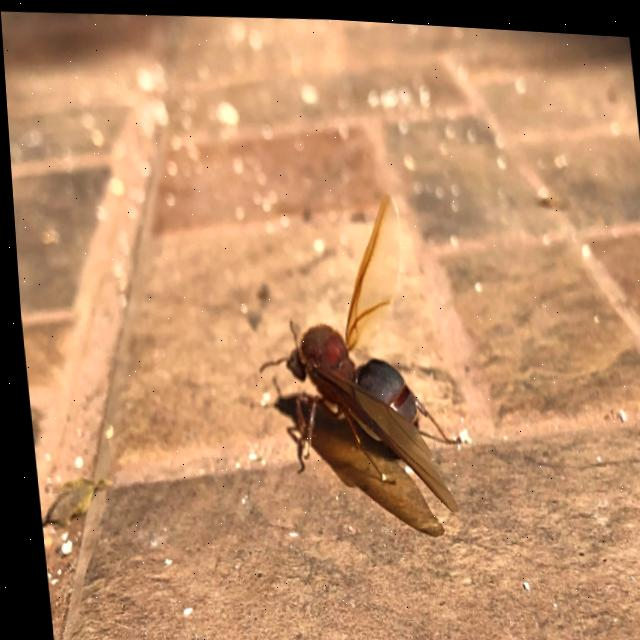Alive-Female-Alate: (237, 177, 464, 540)
